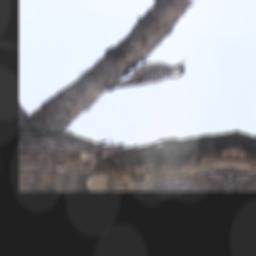Woodpecker: (101, 52, 191, 98)
